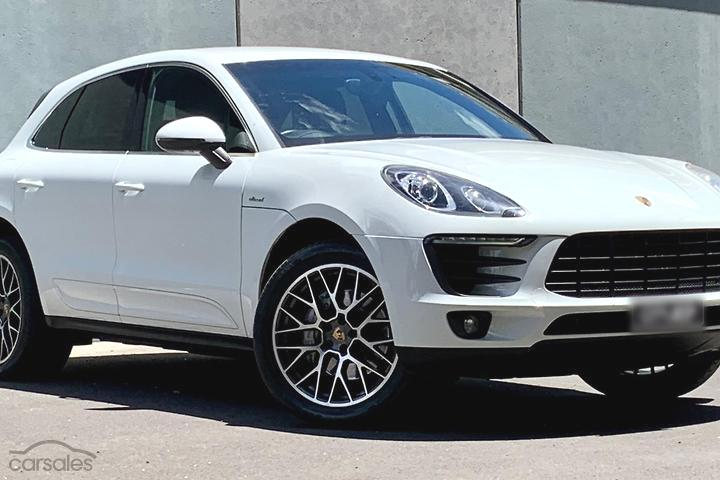porsche: (628, 189, 657, 210)
